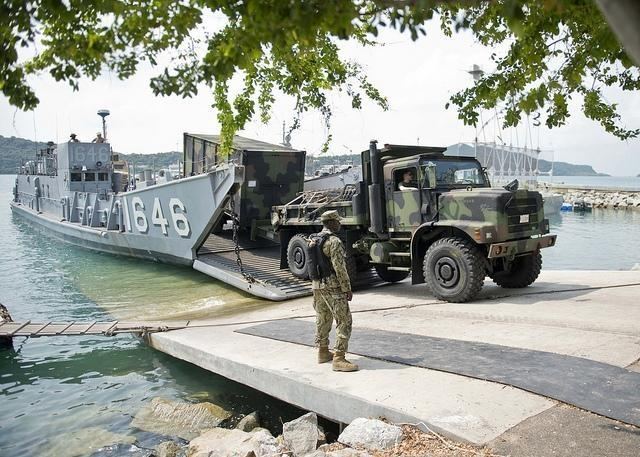truck: (180, 131, 558, 301)
